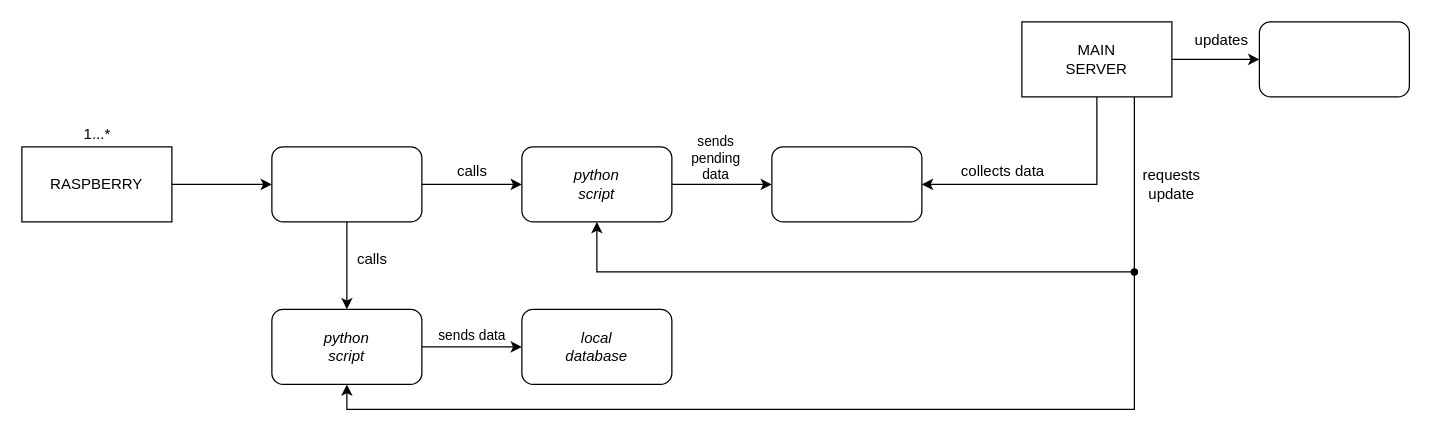
Image size: 1431x441. Some labels were removed from this diagram. The centre of each missing label's shape, as x and y in pixels:
"crontab" belongs at (x=346, y=184).
"main database" belongs at (x=846, y=184).
"web server" belongs at (x=1333, y=59).
